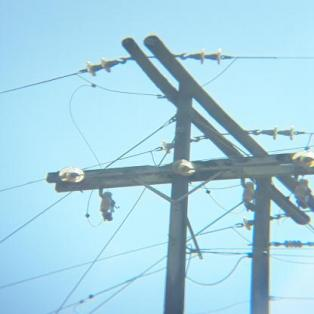Poste: (160, 77, 204, 314)
